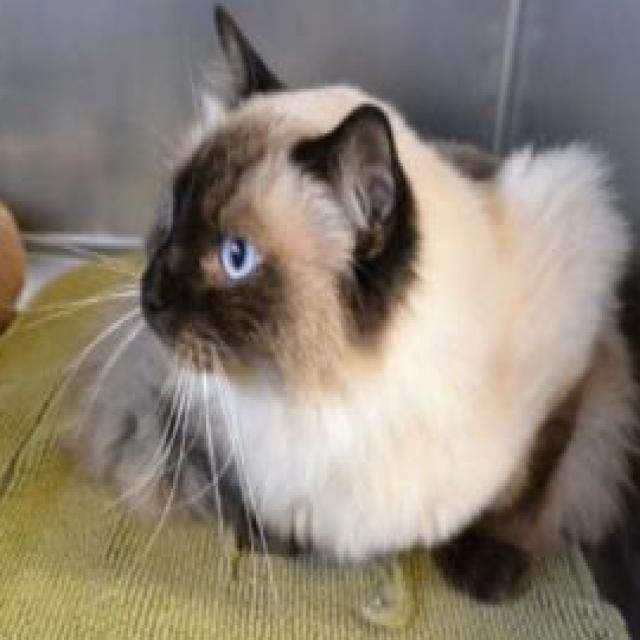Ragdoll: (57, 0, 640, 619)
